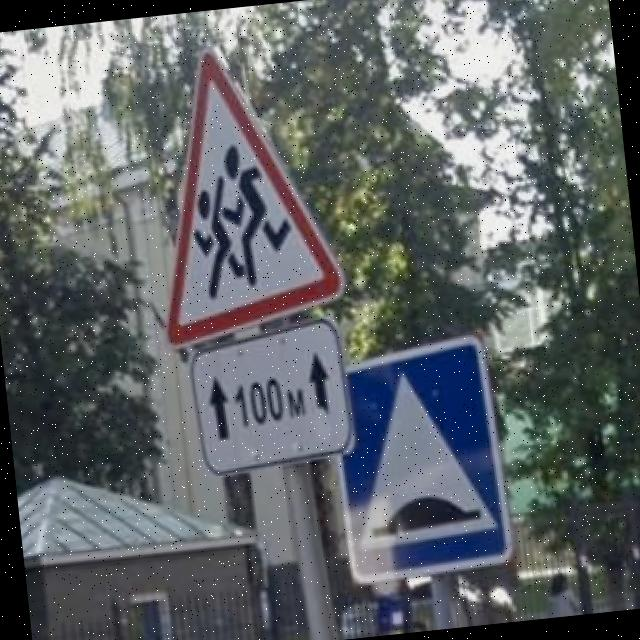Dzieci: (138, 36, 349, 354)
